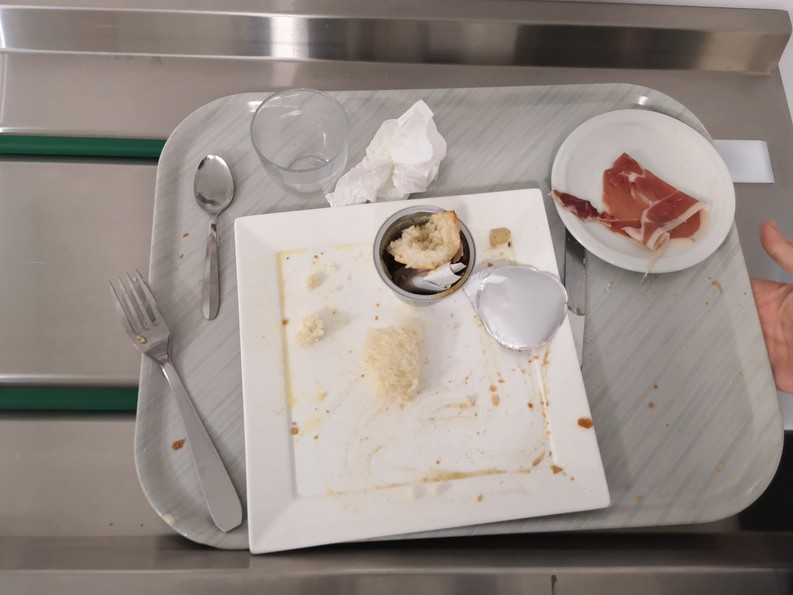cup: (237, 76, 359, 194)
cutlery: (100, 268, 253, 544), (188, 143, 241, 328)
orga: (578, 147, 725, 287), (360, 325, 428, 397), (394, 215, 460, 272)
trash: (366, 199, 480, 314), (322, 105, 448, 206), (478, 254, 569, 352)
